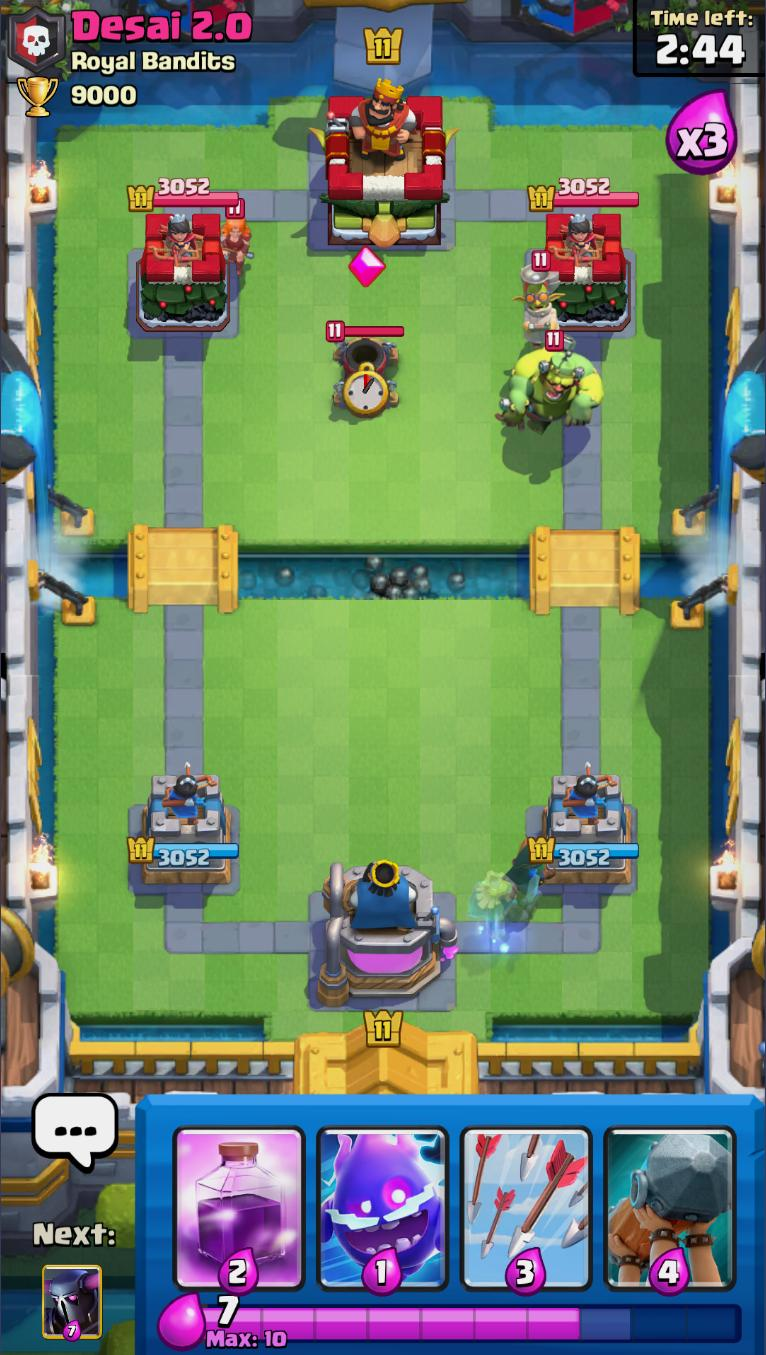ArrowDeck: (456, 1094, 598, 1295)
BattleRamDeck: (599, 1094, 744, 1296)
ElectroSpiritDeck: (311, 1095, 455, 1296)
Elixir: (203, 1295, 744, 1350)
EnemyTower: (533, 208, 631, 331), (133, 210, 229, 335)
Goblinstein: (496, 329, 603, 438)
GoblinsteinScientist: (512, 250, 567, 351)
KingTower: (308, 82, 456, 248)
Mortar: (325, 319, 406, 409)
MyBandit: (504, 837, 555, 893)
MyKingTower: (319, 856, 458, 1009)
MyPrincessTower: (524, 771, 639, 887), (125, 769, 238, 887)
MyPrincessTowerHP: (125, 836, 238, 868), (525, 835, 637, 867)
MyRoyaleGhost: (473, 869, 541, 936)
PekkaNext: (40, 1264, 105, 1344)
PrincessTower: (546, 213, 603, 264), (144, 214, 200, 264)
RageDeck: (167, 1095, 310, 1296)
TowerPrincessHP: (126, 178, 239, 213), (526, 178, 639, 212)
Valkyrie: (215, 201, 256, 277)
